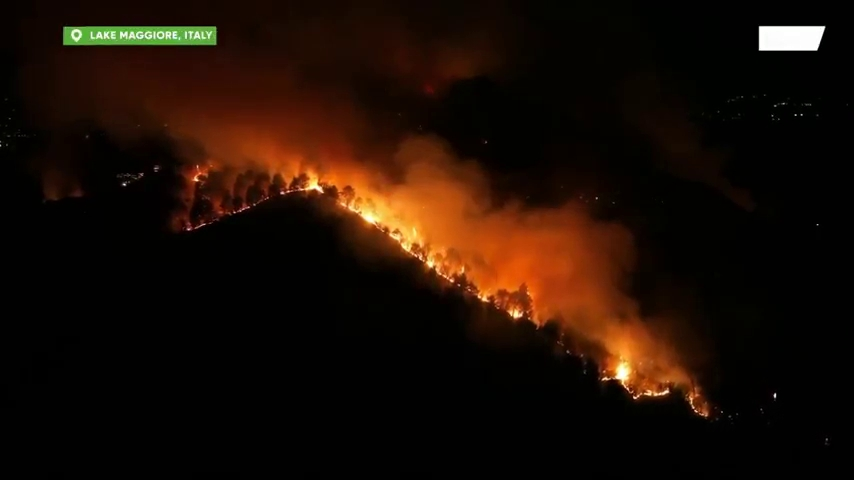forest_fire: (180, 174, 542, 326), (600, 354, 707, 416), (190, 165, 212, 195), (558, 339, 574, 354)
